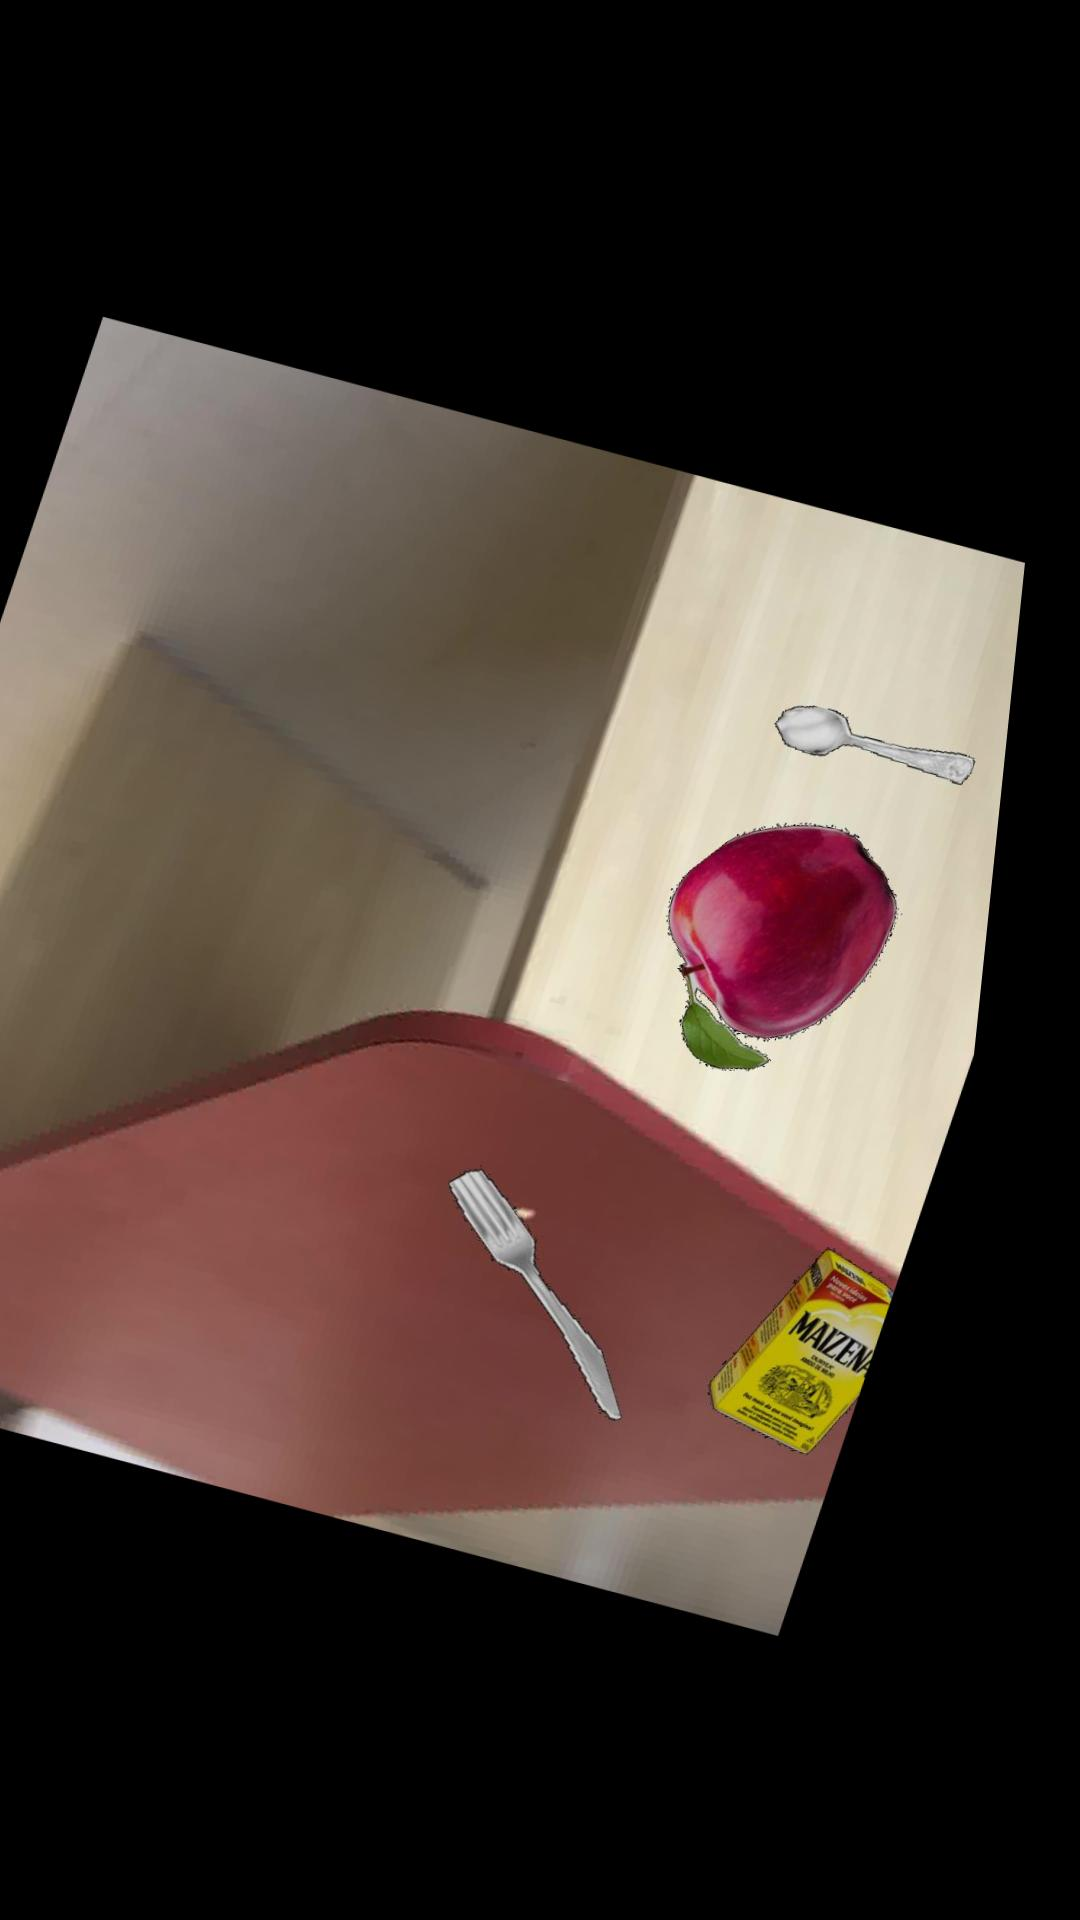apple: (686, 816, 914, 1063)
fork: (473, 1163, 650, 1414)
spoon: (789, 698, 989, 775)
